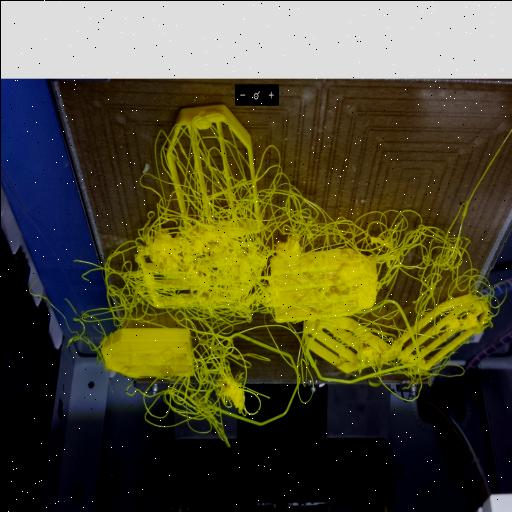spaghetti: (124, 153, 310, 322), (315, 212, 495, 298), (150, 316, 258, 444)
